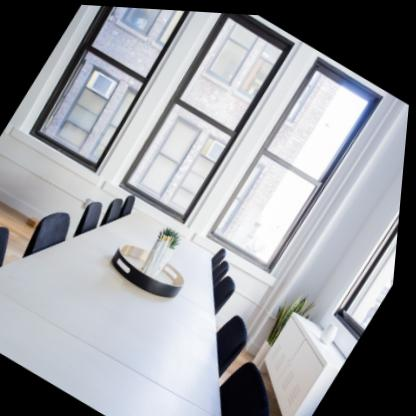Dining Table: (0, 192, 273, 416)
Window: (116, 6, 299, 228), (209, 48, 385, 275)
